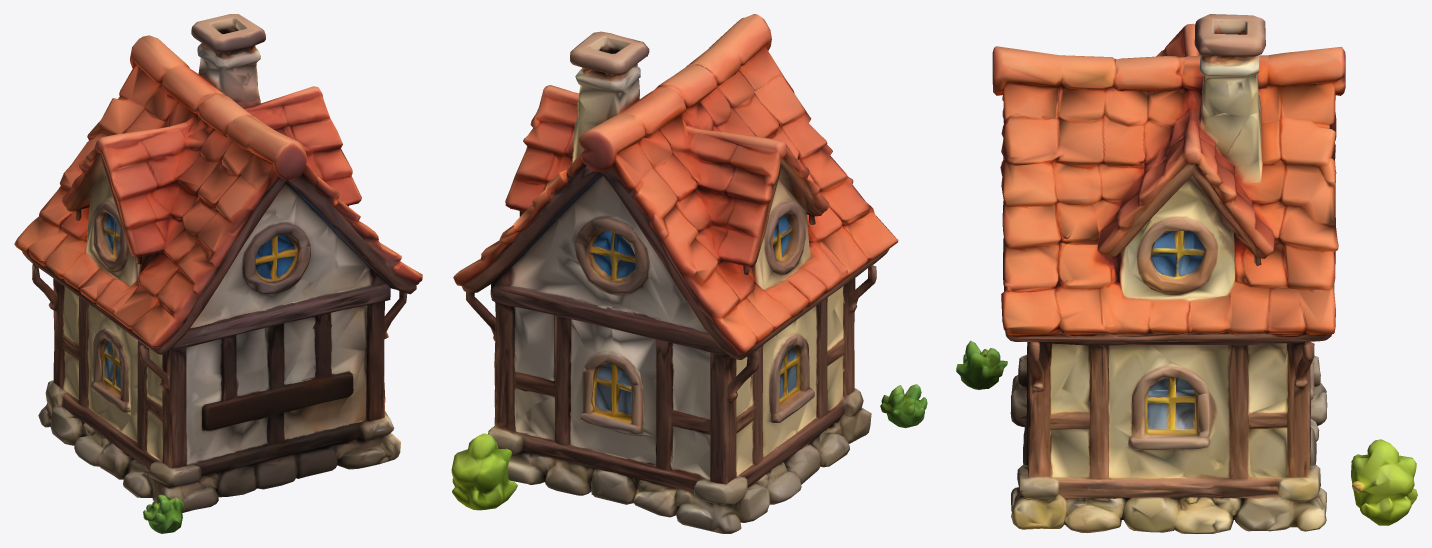
File: bld_watermill.glb
3 views of the same model, side by side, from view 1: azimuth 30°, elevation 25°; view 2: azimuth 150°, elevation 25°; view 3: azimuth 270°, elevation 25° (orthographic). The views are drawn at different scales.
Visible parts, largest first — view 1: tripo_node_42d3742c-a1b1-4a7e-a40f-bdf36d173993; view 2: tripo_node_42d3742c-a1b1-4a7e-a40f-bdf36d173993; view 3: tripo_node_42d3742c-a1b1-4a7e-a40f-bdf36d173993.
Boxes of the visible parts, box(x1,y1,x2,y2) form: tripo_node_42d3742c-a1b1-4a7e-a40f-bdf36d173993: box(14, 14, 422, 533); tripo_node_42d3742c-a1b1-4a7e-a40f-bdf36d173993: box(451, 14, 927, 533); tripo_node_42d3742c-a1b1-4a7e-a40f-bdf36d173993: box(956, 14, 1417, 533).
Size of the model in its own units: 0.7476 by 0.9731 by 0.8769.
1 material, 1 textured.
